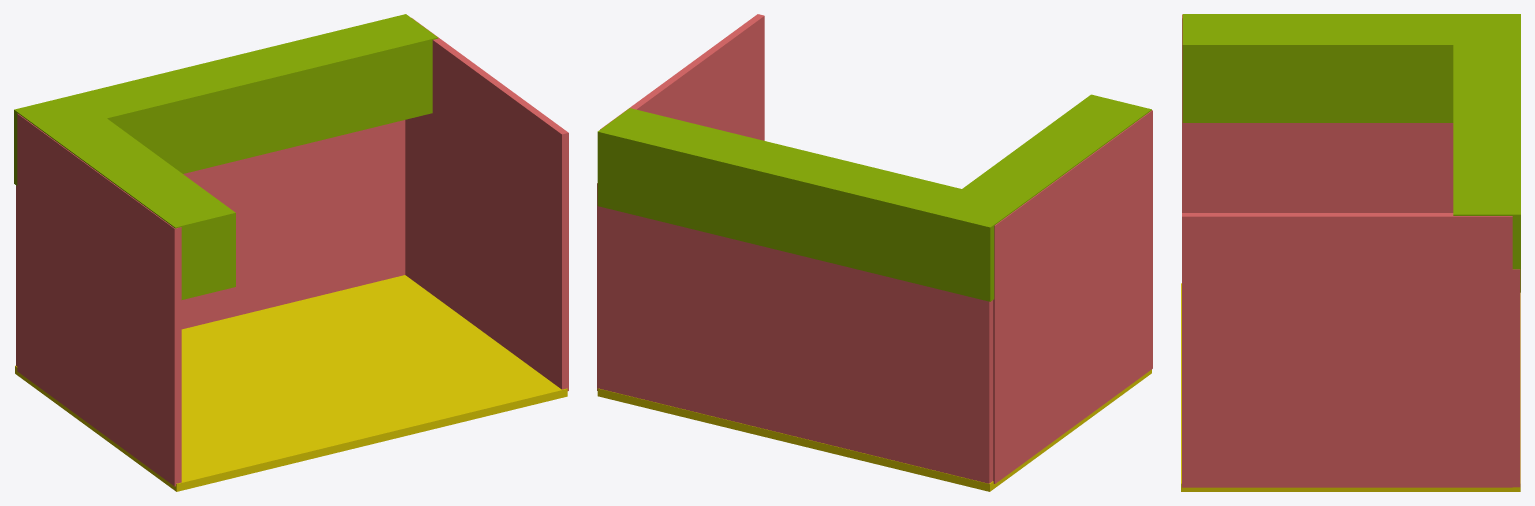
File: Room.fbx
The picture shows the model from 3 angles, left to right: view 1: azimuth 30°, elevation 25°; view 2: azimuth 150°, elevation 25°; view 3: azimuth 270°, elevation 25°; orthographic projection. The views are drawn at different scales.
Parts seen in each view (by area): view 1: pCube5, pCube8, pCube9, pCube10, pCube6; view 2: pCube6, pCube8, pCube9, pCube10, pCube5; view 3: pCube10, pCube8, pCube9, pCube5, pCube6.
Boxes of the visible parts, x1,y1,x2,y2 form: pCube5: (15, 275, 567, 491); pCube8: (14, 14, 438, 299); pCube9: (17, 113, 181, 486); pCube10: (405, 18, 568, 390); pCube6: (16, 120, 405, 366); pCube6: (597, 183, 992, 483); pCube8: (597, 94, 1151, 301); pCube9: (993, 110, 1152, 483); pCube10: (600, 14, 764, 140); pCube5: (597, 369, 1151, 491); pCube10: (1182, 213, 1512, 487); pCube8: (1182, 14, 1520, 292); pCube9: (1182, 14, 1453, 212); pCube5: (1181, 283, 1520, 491); pCube6: (1512, 269, 1520, 487).
Size of the model in its own units: 1438 by 921 by 1023.
